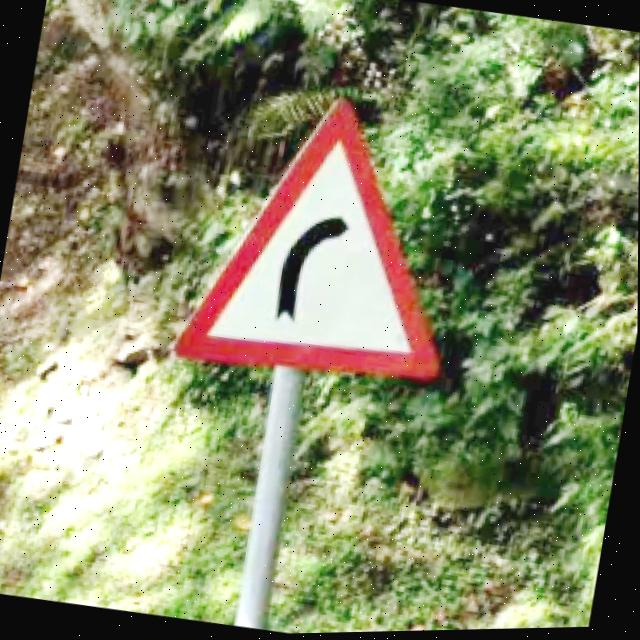rightbend: (173, 102, 442, 387)
